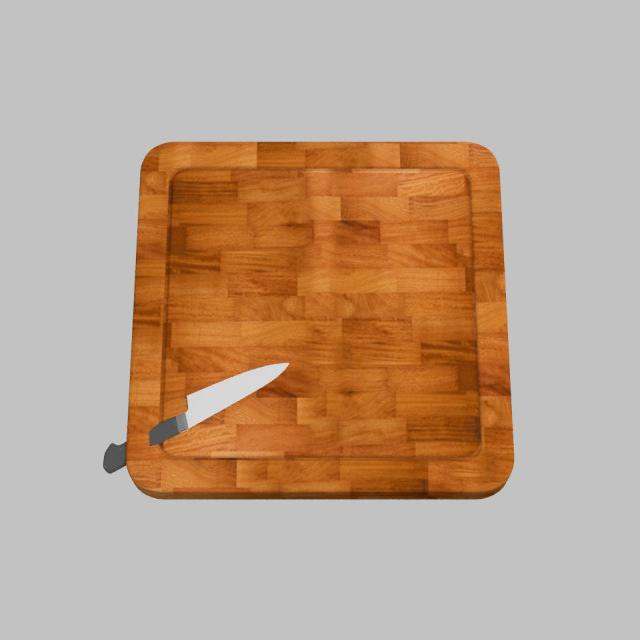knife: (104, 416, 181, 474)
